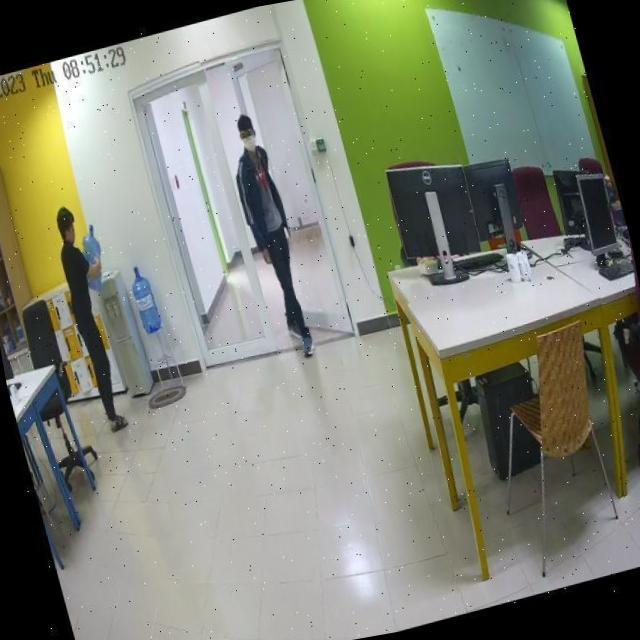person: (220, 105, 326, 368), (46, 198, 142, 436)
